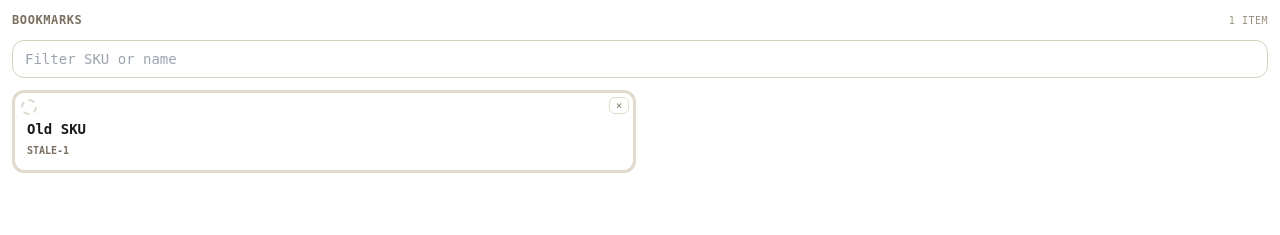
Test: <BookmarkPane> › renders an inline error when the lookup fails
Click the button with aria-label "add stale-1 to cart" at coordinates (57, 129), box [15,93,633,170]
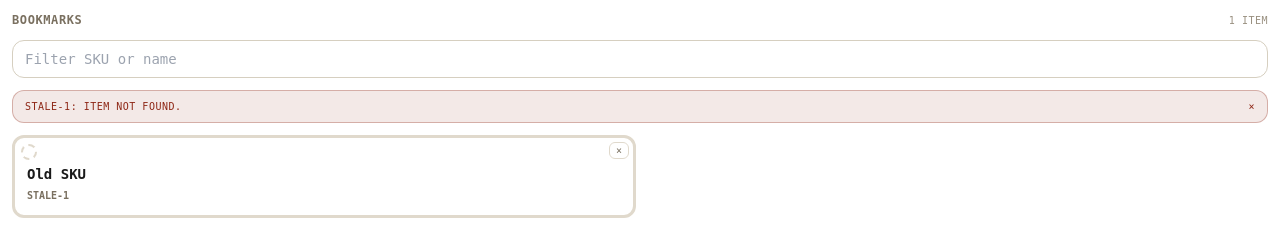
Now the message shows "STALE-1", box [25,101,182,112]
Now the message shows "Item not found", box [25,101,182,112]
